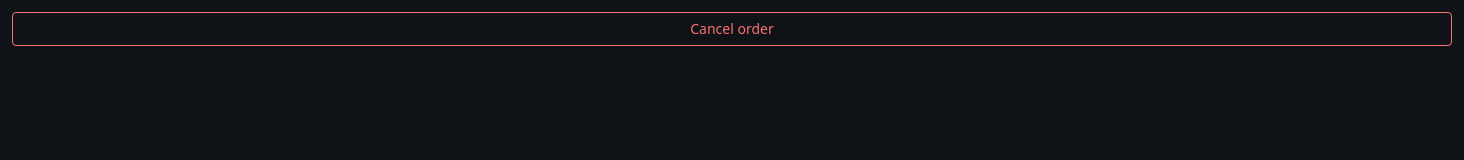
CancelOrderAction › shows a refusal as an error, never as a success, and still refreshes the views
Click the button "Cancel order" at (732, 29), box [12, 12, 1452, 46]
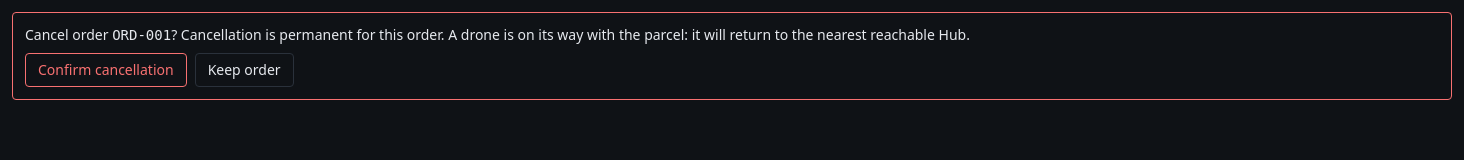
Click the button "Confirm cancellation" at (106, 70), box [25, 53, 187, 87]
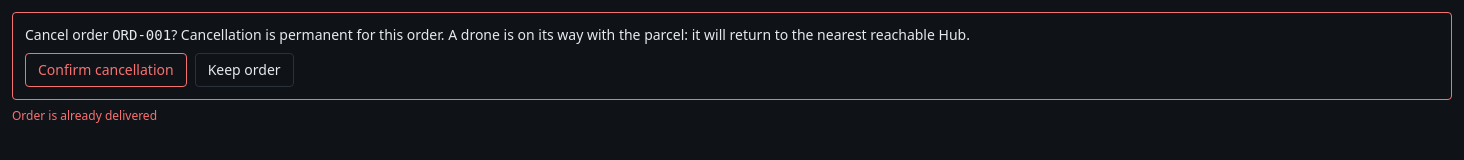
Now the element named "Confirm cancellation" is shown, box [12, 12, 1452, 100]
Now the message shows "delivered", box [12, 107, 157, 124]
